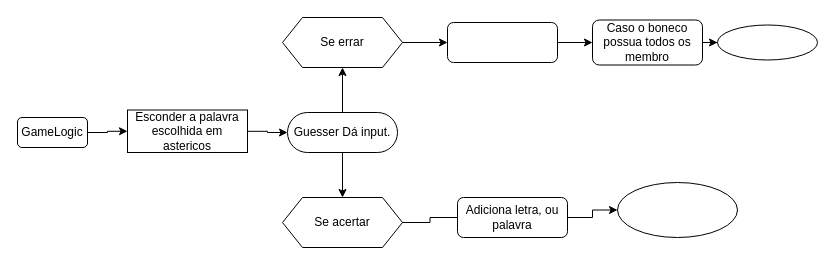
Some shapes in this 835 by 265 pixel diagram are drawn without their labels. Here are the shapes that lost their labels. From the top down, the centre of each, then its label:
(x=502, y=42): Adiciona membro ao boneco
(x=767, y=42): Perdeu
(x=677, y=210): Venceu
